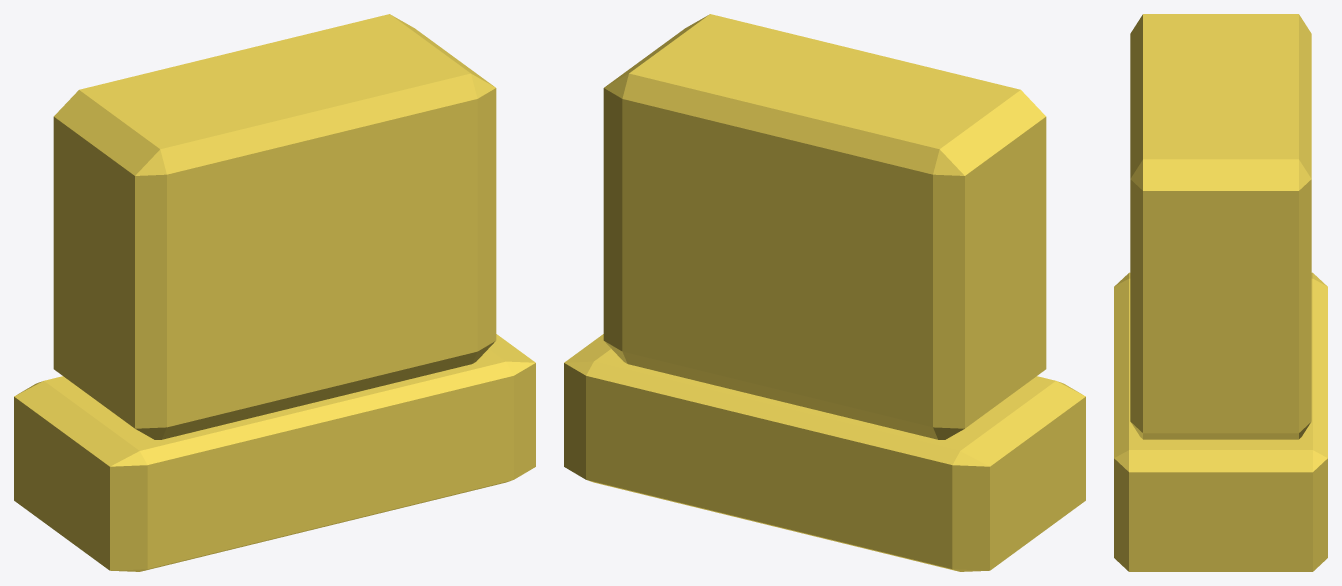
The model's file is b02_folding_warning_triangle.glb.
3 views of the same model, side by side, from view 1: azimuth 30°, elevation 25°; view 2: azimuth 150°, elevation 25°; view 3: azimuth 270°, elevation 25° (orthographic). The views are drawn at different scales.
Parts seen in each view (by area): view 1: b02_folding_warning_triangle; view 2: b02_folding_warning_triangle; view 3: b02_folding_warning_triangle.
Boxes of the visible parts, x1,y1,x2,y2 form: b02_folding_warning_triangle: [14, 14, 535, 571]; b02_folding_warning_triangle: [564, 14, 1085, 571]; b02_folding_warning_triangle: [1114, 14, 1327, 571].
Bounding box in the file's own units: 0.695 × 0.64 × 0.315.
